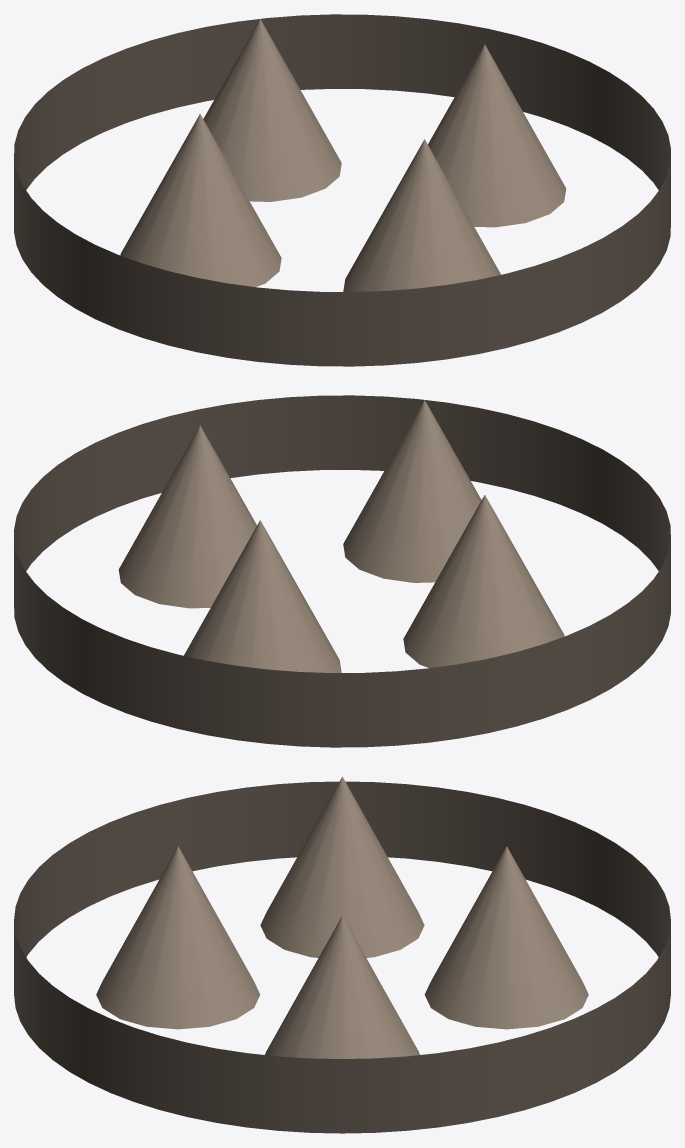
Rendered from snares_of_hatred_r1.obj.
The picture shows the model from 3 angles, top to bottom: view 1: azimuth 30°, elevation 25°; view 2: azimuth 150°, elevation 25°; view 3: azimuth 270°, elevation 25°; orthographic projection.
Visible parts, largest first — view 1: spikes_r1; view 2: spikes_r1; view 3: spikes_r1.
Part boxes in pixels (box(x1,y1,x2,y2)): spikes_r1: box(14, 14, 670, 366); spikes_r1: box(14, 395, 670, 747); spikes_r1: box(14, 776, 670, 1133).
Size of the model in its own units: 2 by 0.5 by 2.
